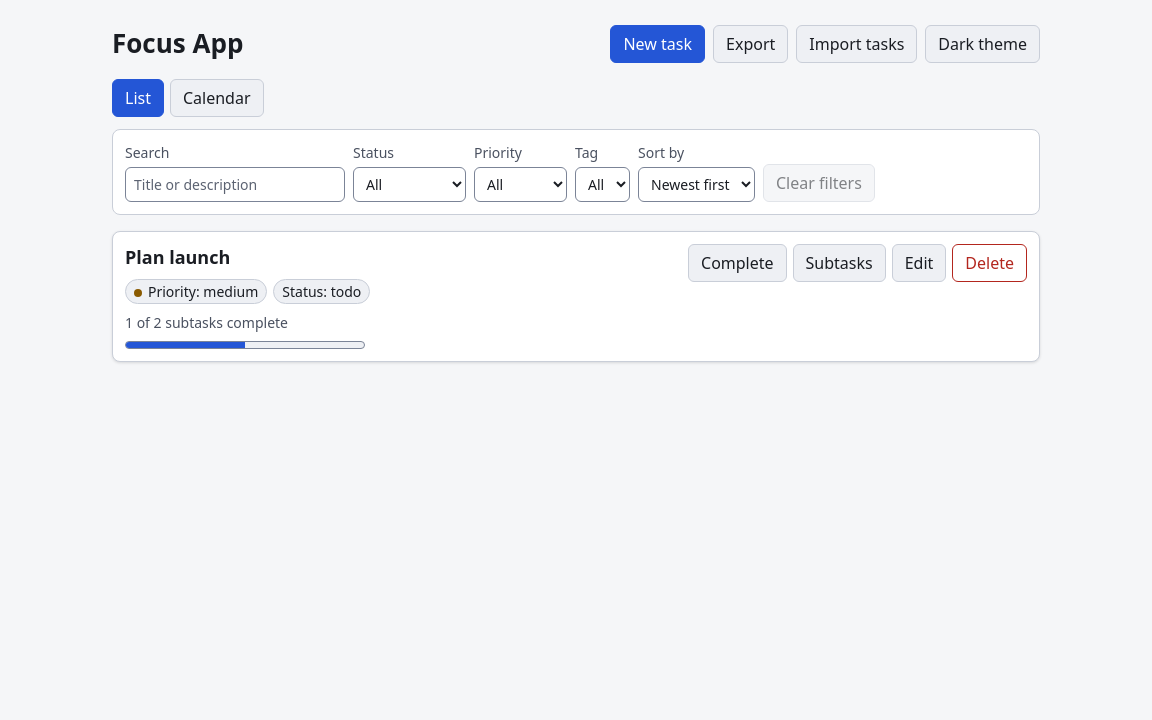
Test case: completing subtasks and the prompt (US2) › asks, without completing, when the last subtask is ticked
Click the button with aria-label "Subtasks for Plan launch": (839, 263) [793, 244, 886, 282]
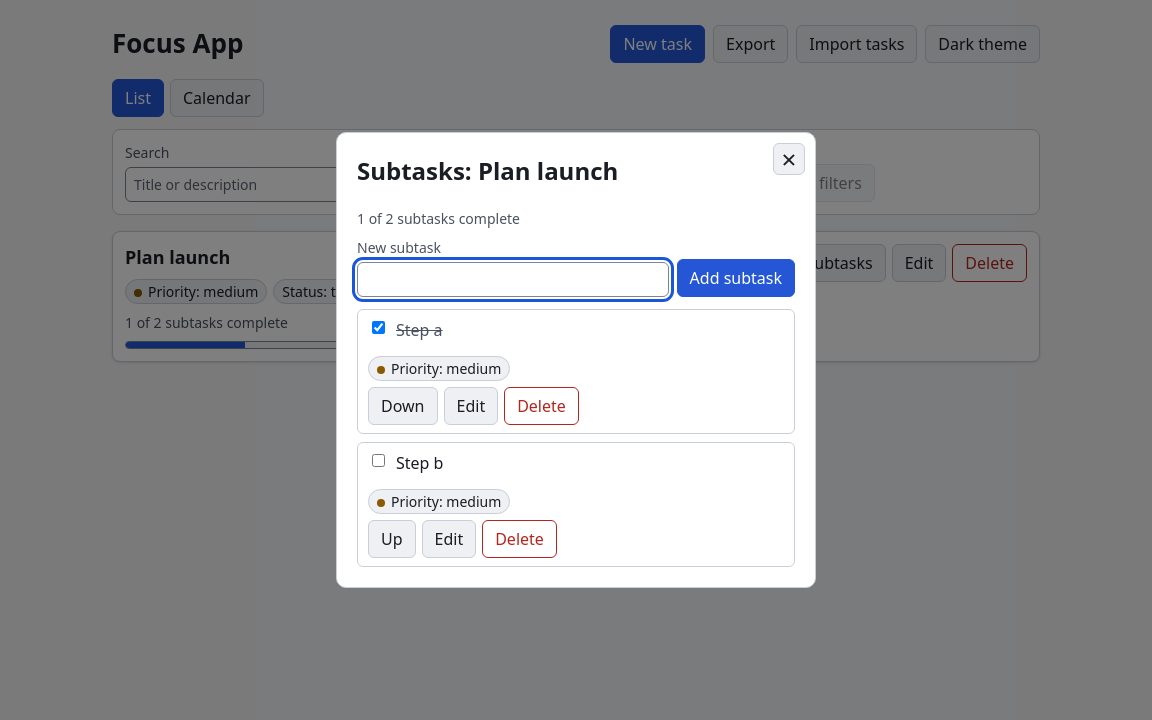
Click the checkbox labelled "Step b": (378, 461) [372, 454, 385, 468]
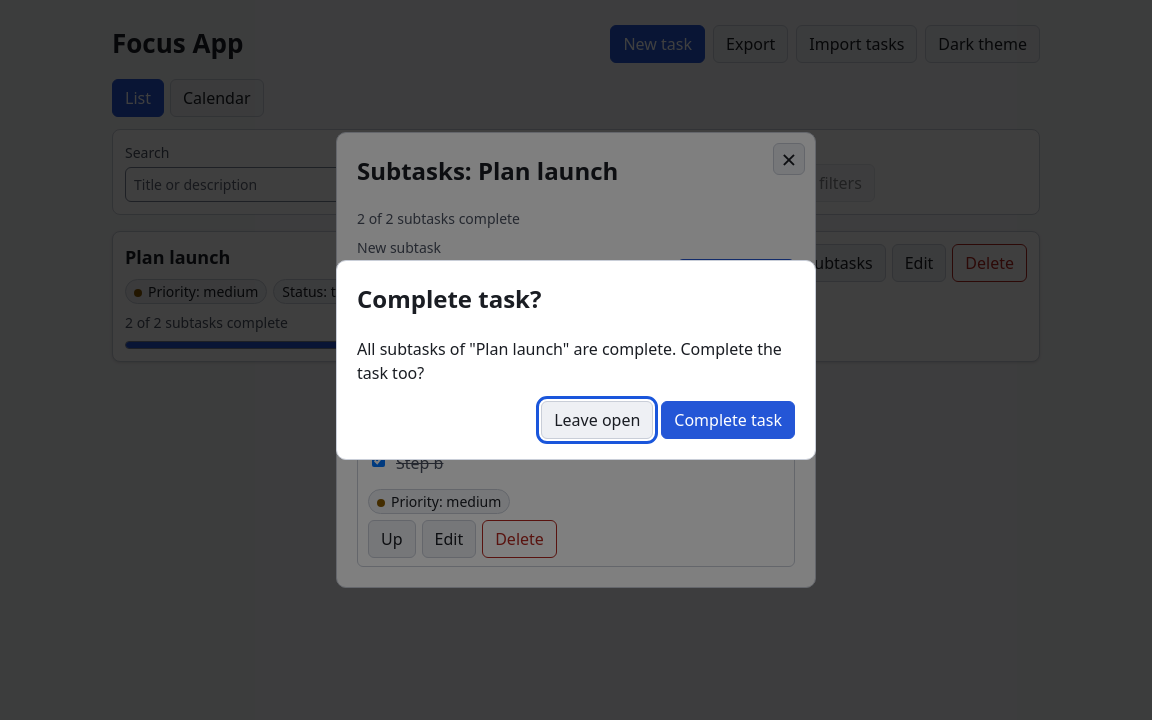
Check: the text "All subtasks of \"Plan launch\" are complete. Complete the task too?" is shown, box [357, 337, 795, 385]
